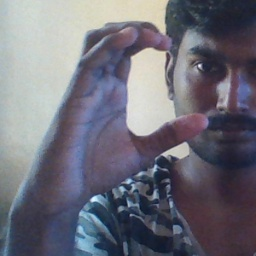C: (77, 20, 209, 164)
